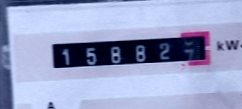1: (58, 46, 71, 65)
2: (157, 40, 170, 60)
5: (83, 45, 96, 65)
7: (182, 47, 194, 61)
8: (108, 43, 121, 64), (133, 42, 146, 63)
screen: (43, 25, 219, 76)
